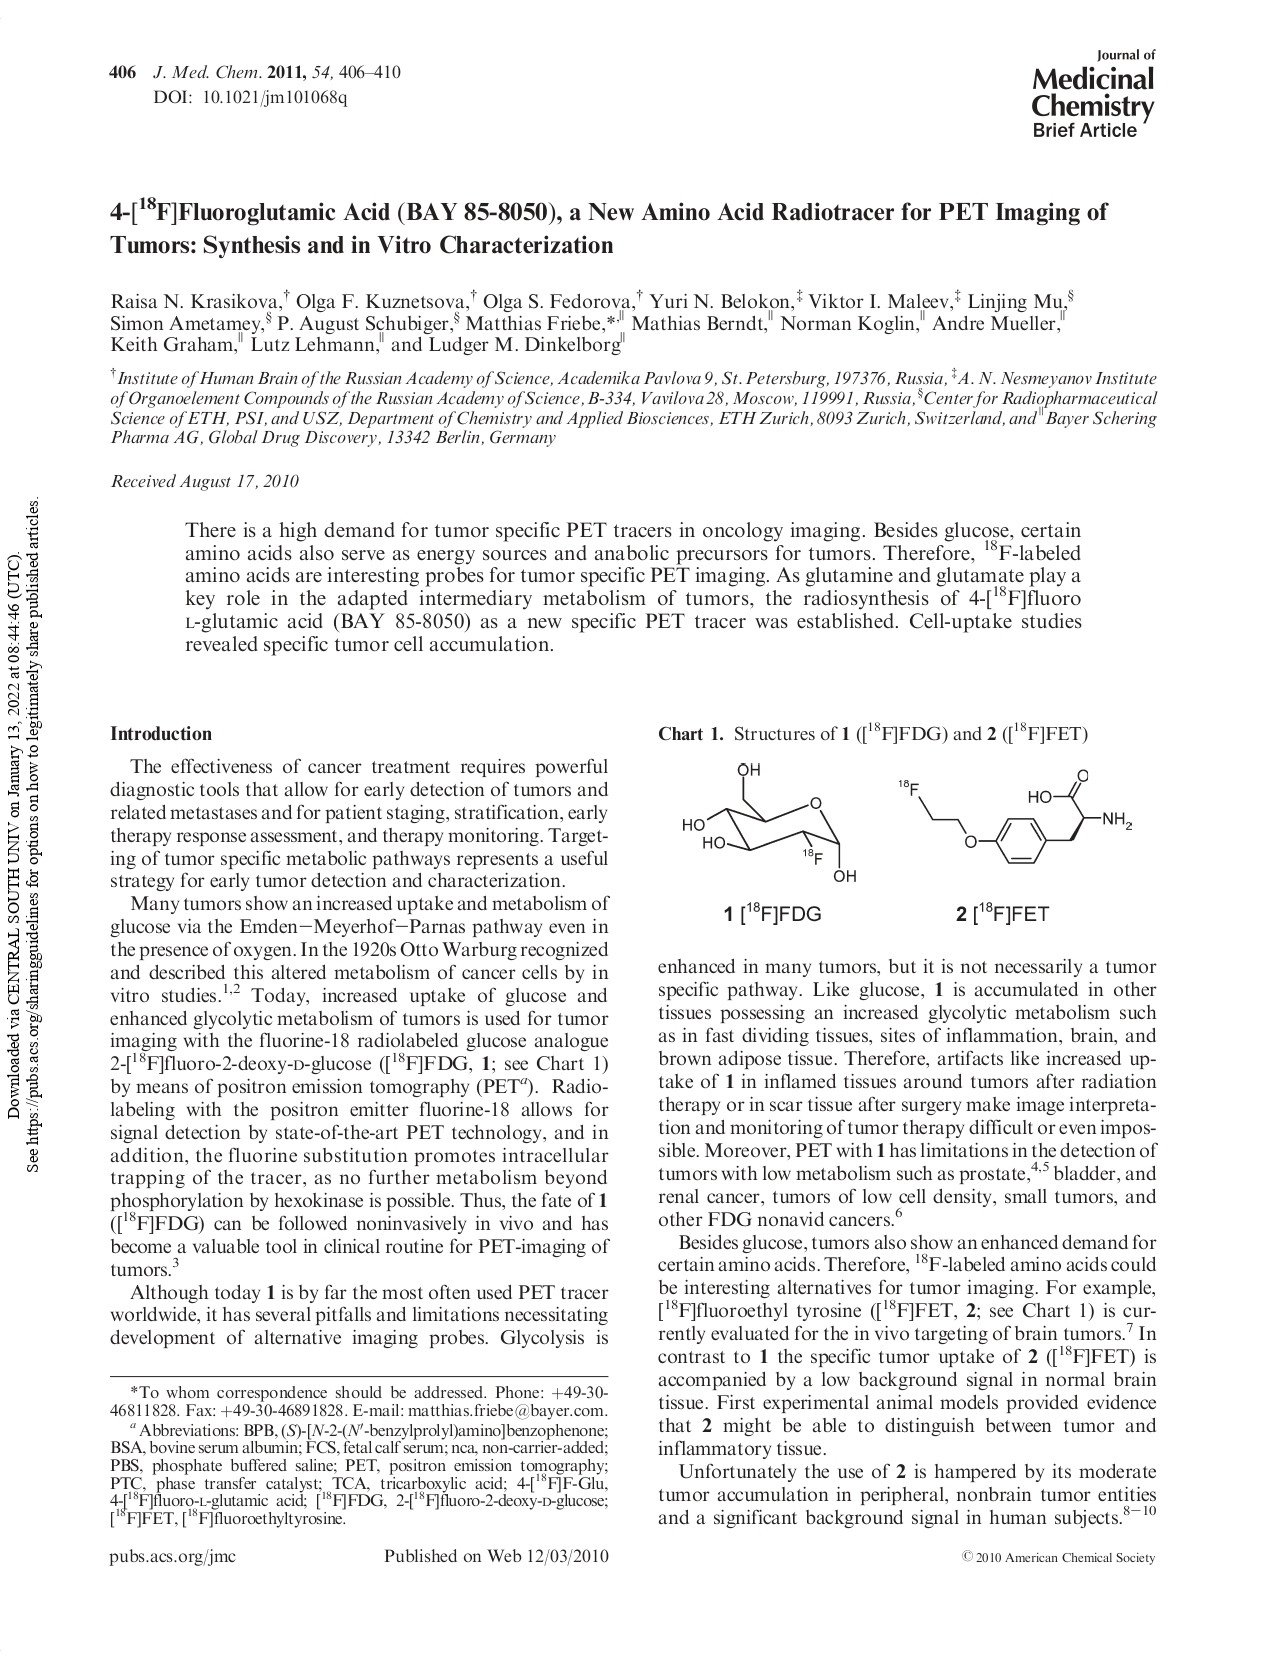exist_molecular: (894, 767, 1138, 870), (680, 758, 864, 888)
